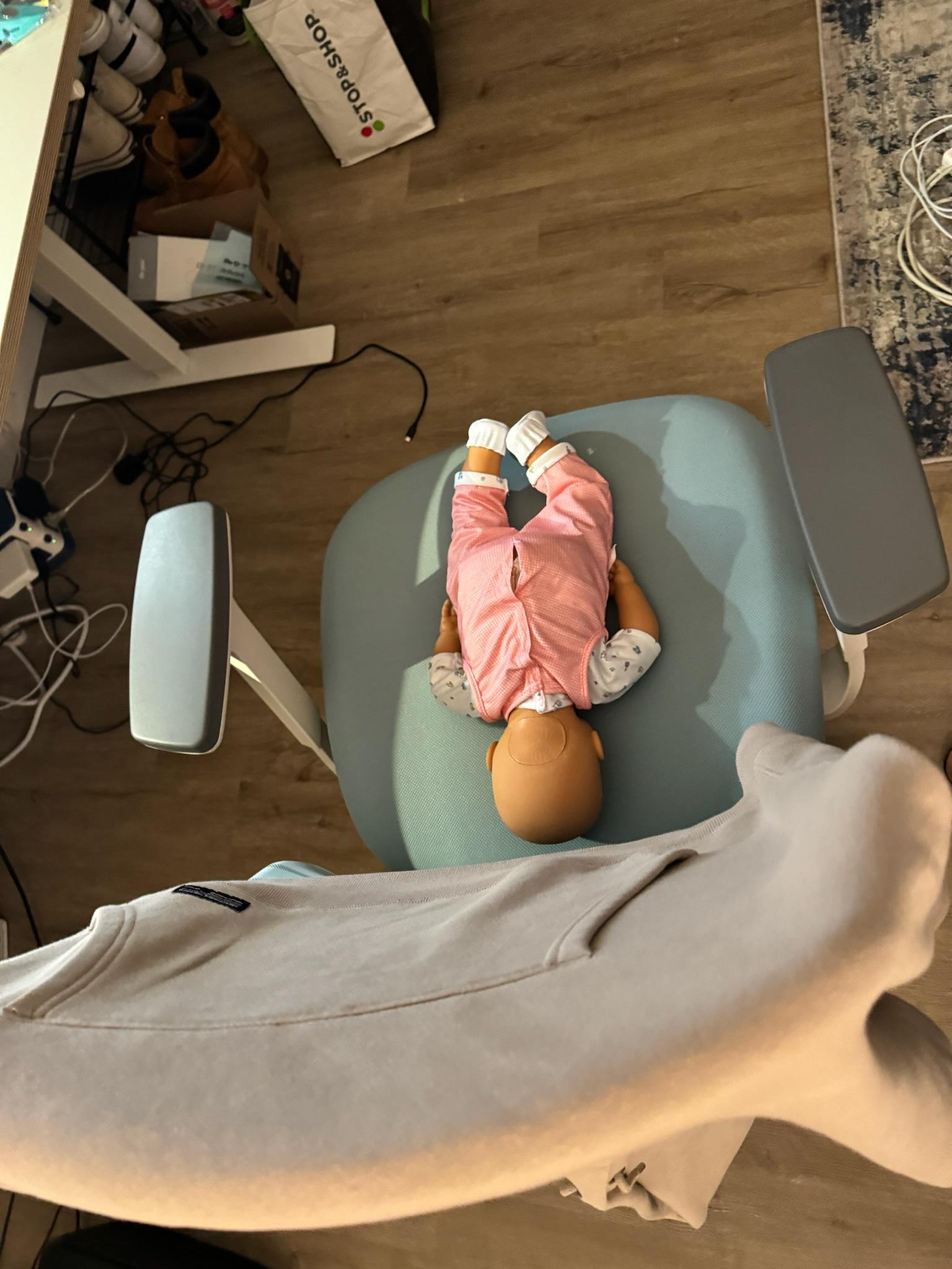baby: (409, 399, 671, 857)
